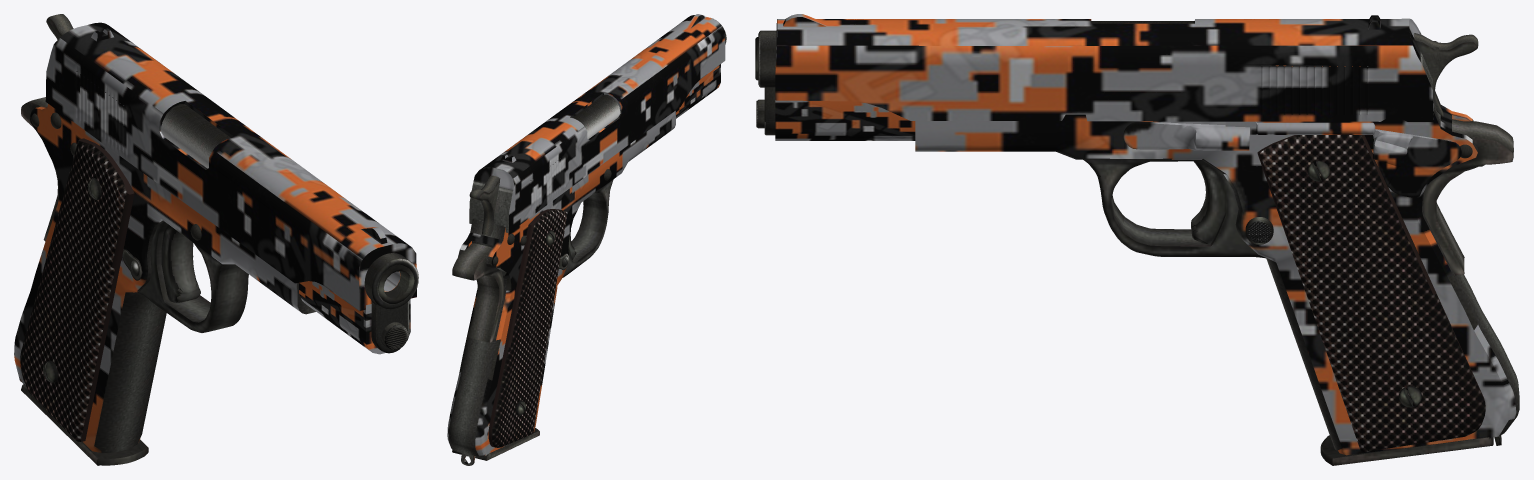
The model's file is Pistol.FBX.
The picture shows the model from 3 angles, left to right: view 1: azimuth 30°, elevation 25°; view 2: azimuth 150°, elevation 25°; view 3: azimuth 270°, elevation 25°; orthographic projection. The views are drawn at different scales.
Visible parts, largest first — view 1: Barrel_Bushing; view 2: Barrel_Bushing; view 3: Barrel_Bushing.
Part boxes in pixels (x1,y1,x2,y2): Barrel_Bushing: (14, 14, 418, 465); Barrel_Bushing: (447, 14, 726, 465); Barrel_Bushing: (755, 14, 1519, 465).
Bounding box in the file's own units: 0.0812 × 0.6391 × 0.4038.
